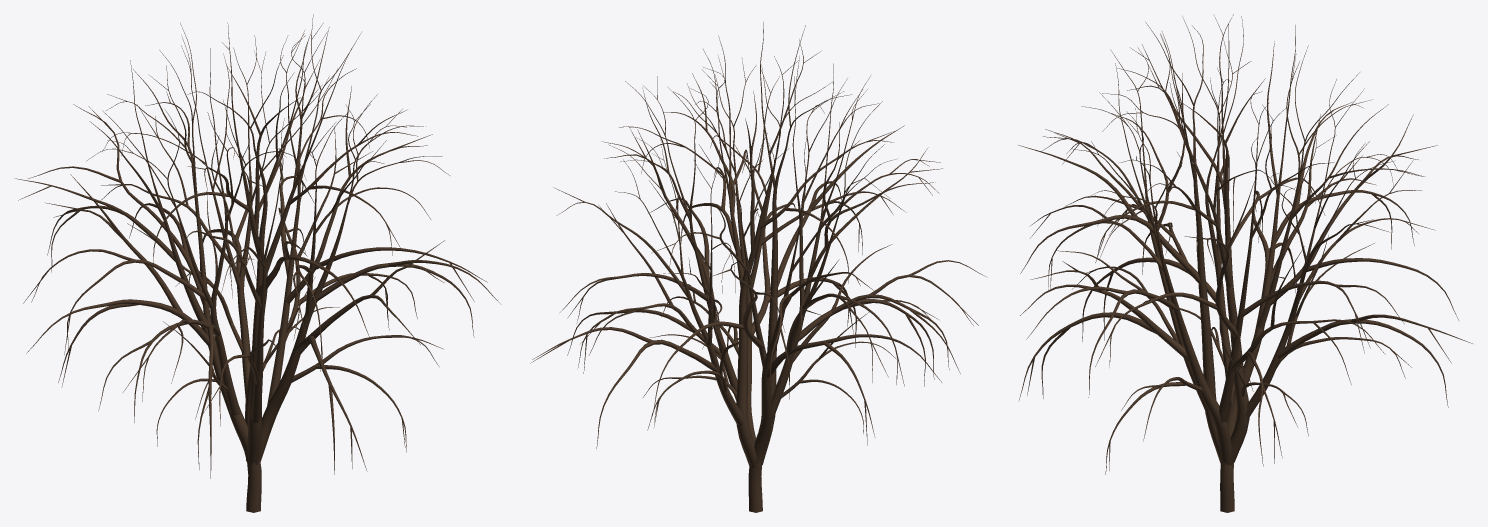
File: Arbol-SecoColor.glb
The picture shows the model from 3 angles, left to right: view 1: azimuth 30°, elevation 25°; view 2: azimuth 150°, elevation 25°; view 3: azimuth 270°, elevation 25°; orthographic projection. The views are drawn at different scales.
Visible parts, largest first — view 1: tree; view 2: tree; view 3: tree.
Boxes of the visible parts, x1,y1,x2,y2 form: tree: [14, 14, 501, 512]; tree: [530, 22, 986, 512]; tree: [1018, 14, 1472, 512].
Bounding box in the file's own units: 5.41 × 6.48 × 5.47.
